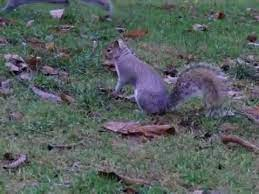squirrel: (102, 39, 227, 115)
